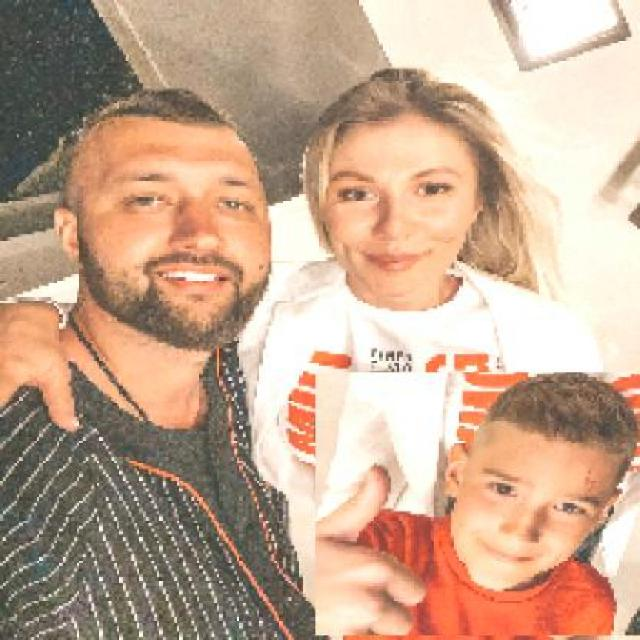child: (314, 372, 640, 637)
